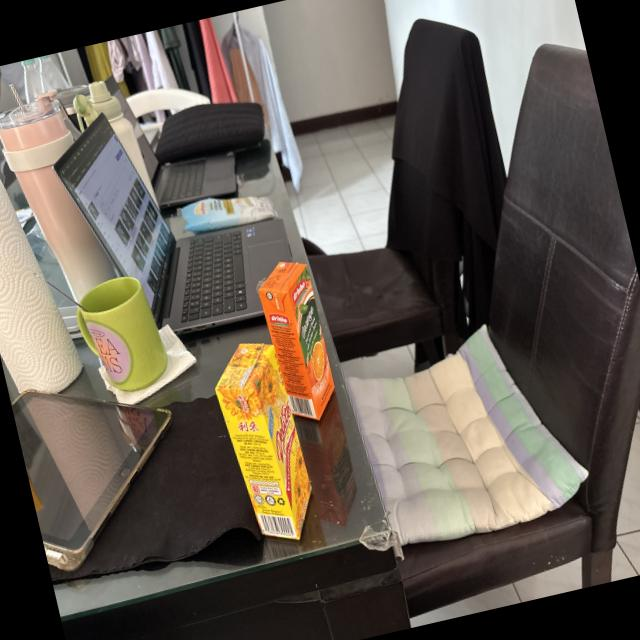drink_carton: (198, 326, 328, 559), (247, 248, 348, 429)
